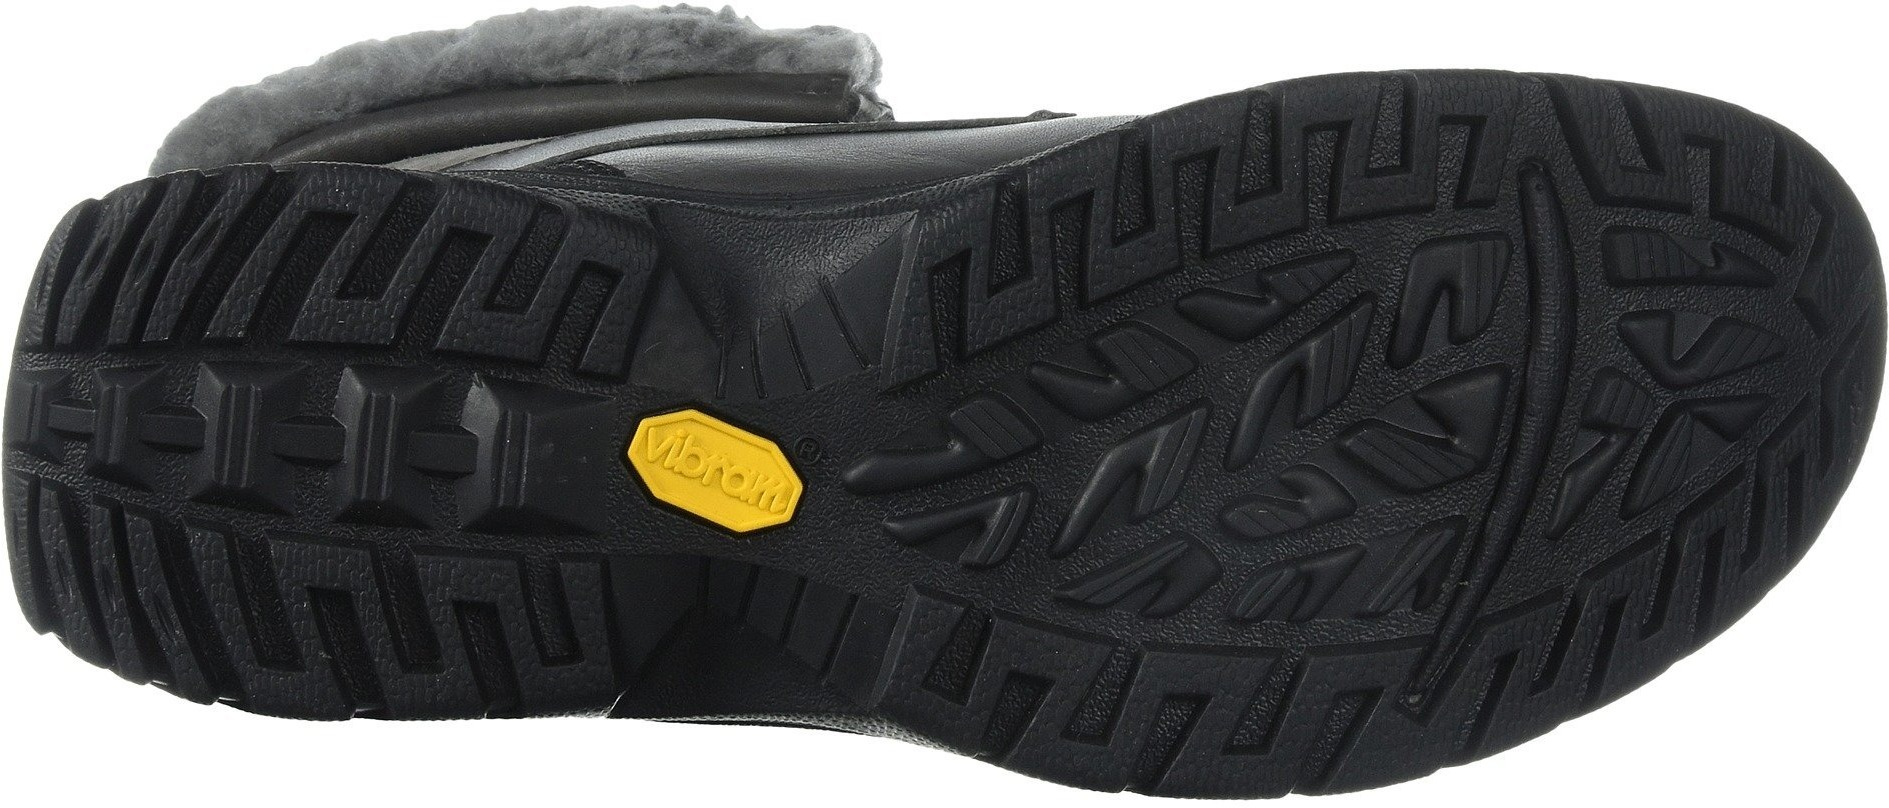circle: (604, 371, 841, 558)
exclude: (113, 2, 1226, 216)
polygon: (604, 371, 841, 558)
text: (604, 371, 841, 558), (726, 471, 788, 543)
